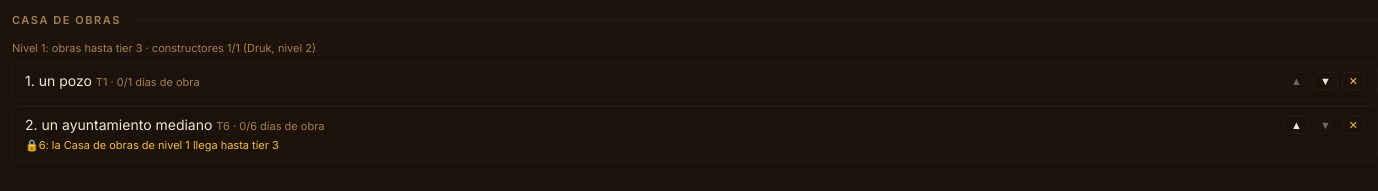
Test: Casa de obras — cola › si falla el reordenar, vuelve al orden de antes, relee la cola y enseña el error
Click the button named "Subir un ayuntamiento mediano" at [1296, 125], box [1284,116,1309,134]
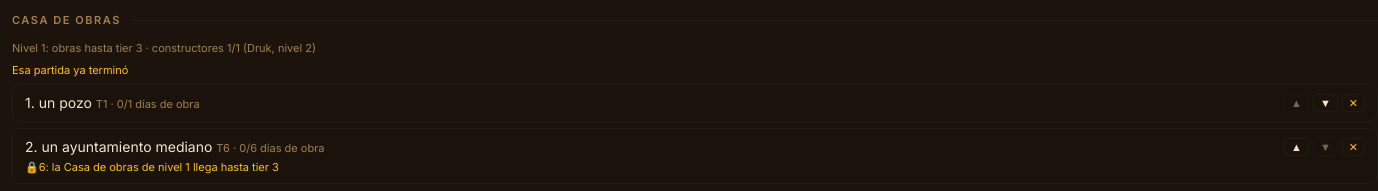
Check: the list item "1. un pozo T1 · 0/1 días de obra ▲ ▼ ✕" is shown, box [12,84,1377,122]
Check: the text "Esa partida ya terminó" is shown, box [12,63,128,77]
